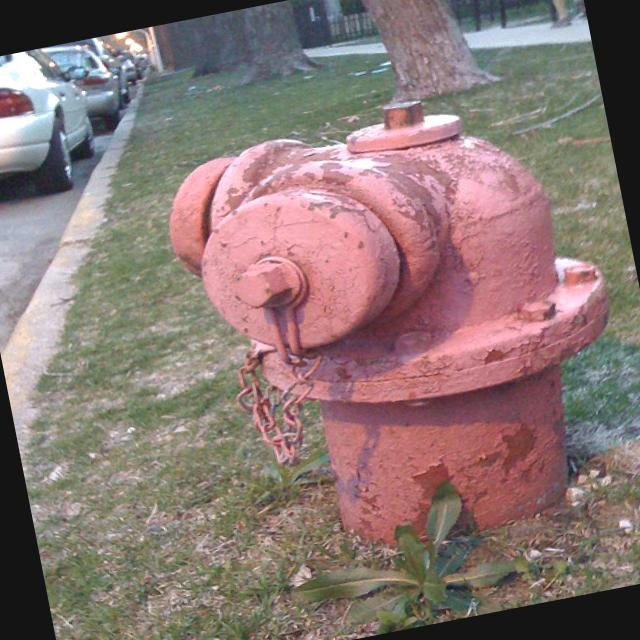Vehicle: (0, 41, 105, 209), (44, 35, 134, 142), (36, 34, 124, 72), (131, 51, 158, 78), (117, 54, 139, 86)
